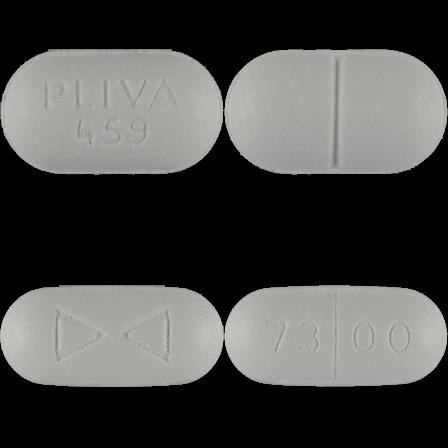53808-0316: (0, 0, 224, 224)
